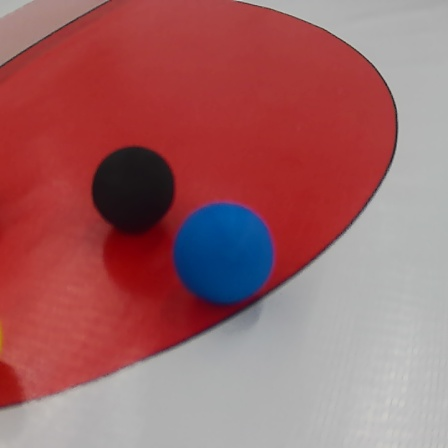black: (87, 148, 179, 237)
blue: (171, 203, 279, 308)
red_base: (1, 0, 399, 411)
